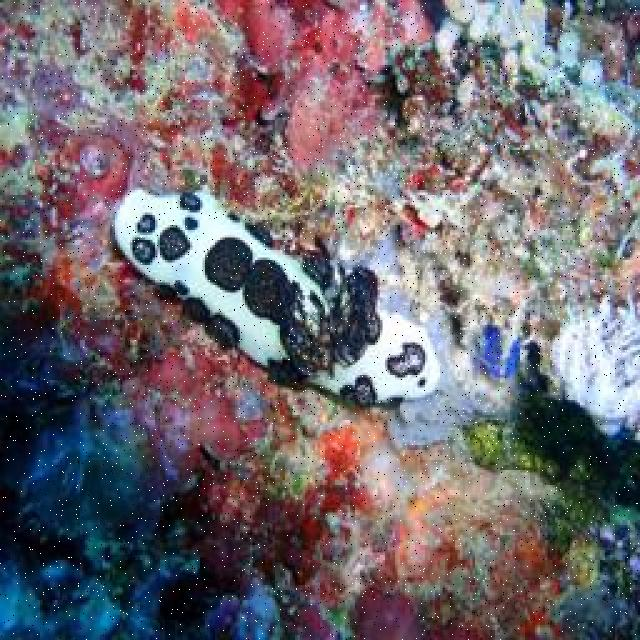reefs: (113, 183, 442, 408)
